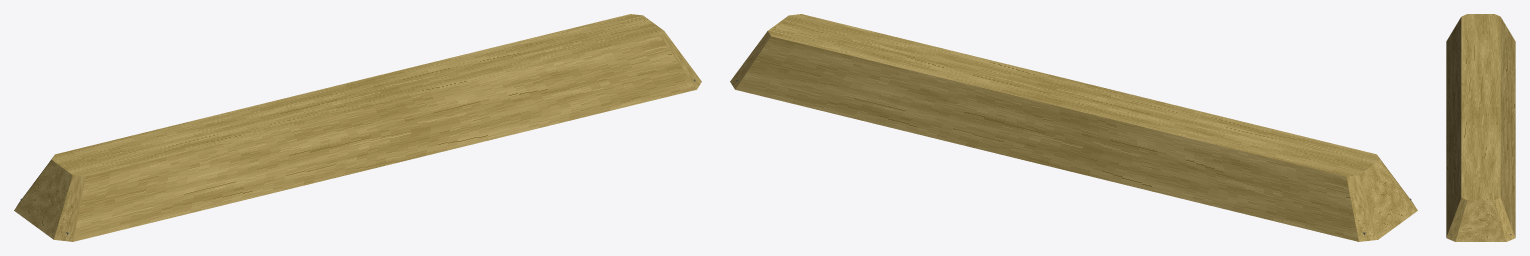
File: parking_stop.glb
The picture shows the model from 3 angles, left to right: view 1: azimuth 30°, elevation 25°; view 2: azimuth 150°, elevation 25°; view 3: azimuth 270°, elevation 25°; orthographic projection. The views are drawn at different scales.
Visible parts, largest first — view 1: Body; view 2: Body; view 3: Body.
Part boxes in pixels (x1=…): Body: x1=14, y1=14, x2=701, y2=241; Body: x1=730, y1=14, x2=1417, y2=241; Body: x1=1446, y1=14, x2=1515, y2=241.
Bounding box in the file's own units: 1.6 × 0.12 × 0.23.
1 material, 1 textured.
